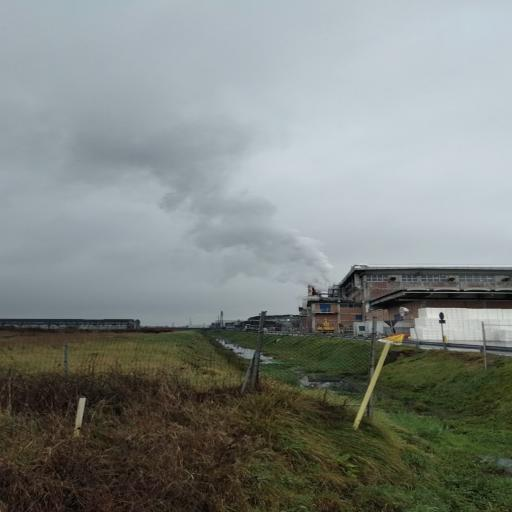leakage: (37, 106, 348, 300)
